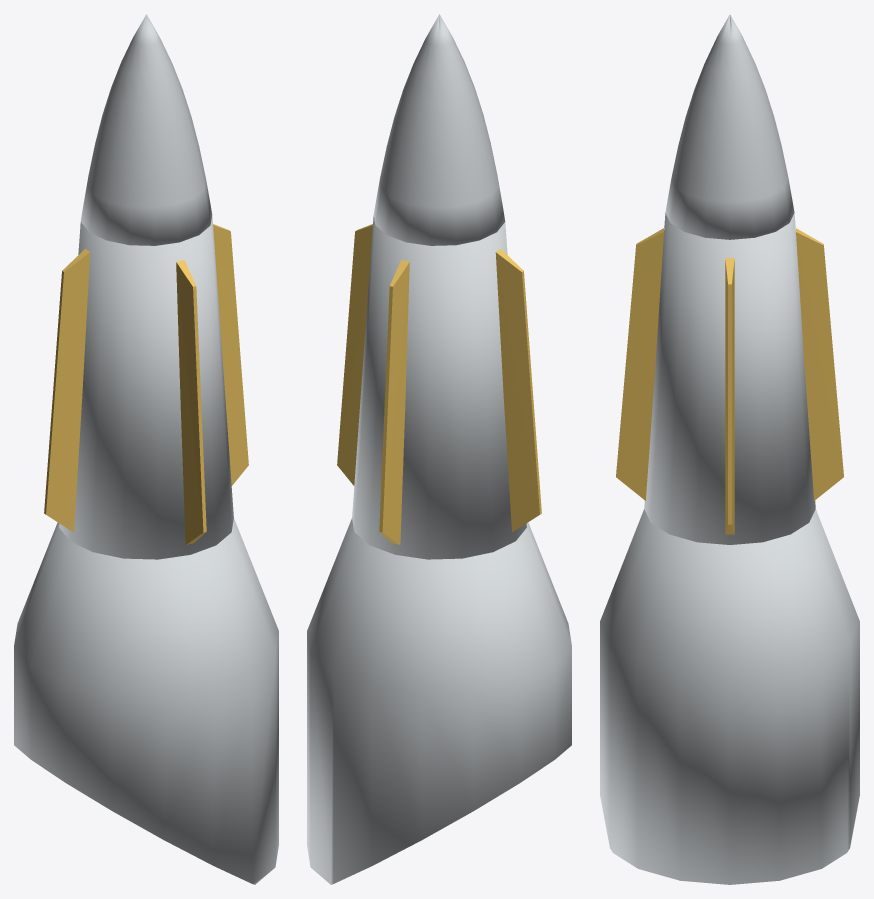
3 views of the same model, side by side, from view 1: azimuth 30°, elevation 25°; view 2: azimuth 150°, elevation 25°; view 3: azimuth 270°, elevation 25° (orthographic). The views are drawn at different scales.
Visible parts, largest first — view 1: Line001, Line004; view 2: Line001, Line004; view 3: Line001, Line004.
Boxes of the visible parts, x1,y1,x2,y2 form: Line001: (14,14,278,884); Line004: (44,224,248,544); Line001: (307,14,571,884); Line004: (337,224,541,544); Line001: (600,14,859,884); Line004: (616,228,843,534).
Bounding box in the file's own units: 8.66 × 30.01 × 8.66.
